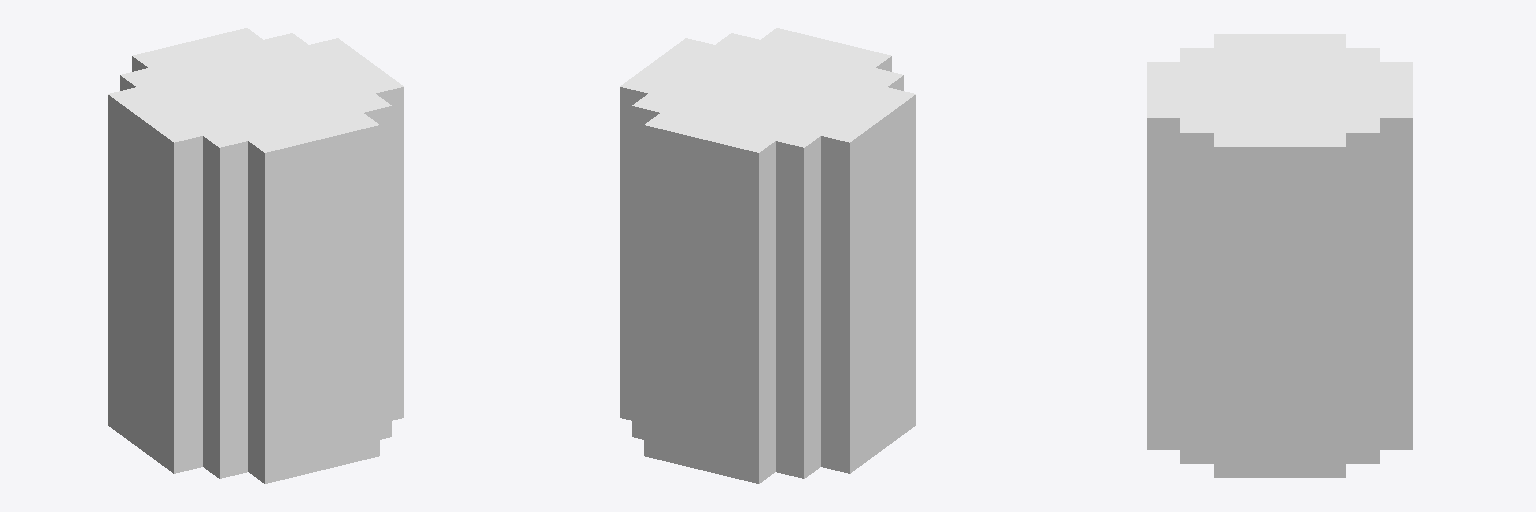
File: Oil.obj
The picture shows the model from 3 angles: view 1: azimuth 30°, elevation 25°; view 2: azimuth 150°, elevation 25°; view 3: azimuth 270°, elevation 25°; orthographic projection.
Parts seen in each view (by area): view 1: object 1; view 2: object 1; view 3: object 1.
Part boxes in pixels (bbox=[...]): object 1: bbox=[108, 28, 403, 483]; object 1: bbox=[620, 28, 915, 483]; object 1: bbox=[1147, 34, 1412, 477].
Bounding box in the file's own units: 0.8 × 1.1 × 0.8.